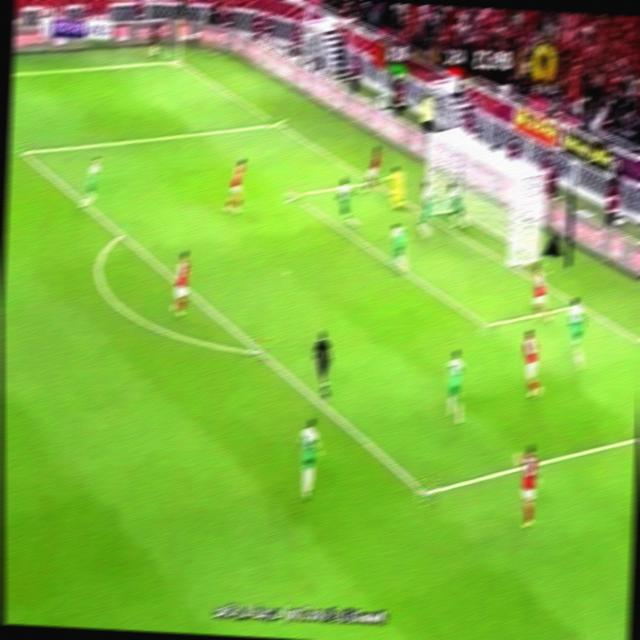bigarea_bottom_inner: (415, 474, 440, 507)
bigarea_top_inner: (16, 141, 35, 163)
bigarea_top_outter: (268, 113, 287, 132)
bottom_arc_area_intersection: (250, 337, 272, 362)
corner: (169, 53, 191, 69)
smallarea_bottom_inner: (478, 310, 499, 337)
smallarea_top_inner: (284, 184, 306, 205)
top_arc_area_intersection: (115, 223, 132, 244)
